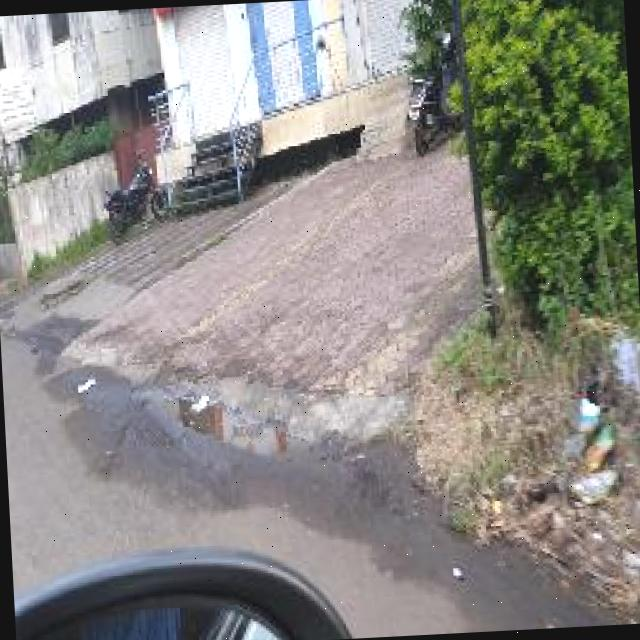stagnation: (29, 352, 319, 529)
